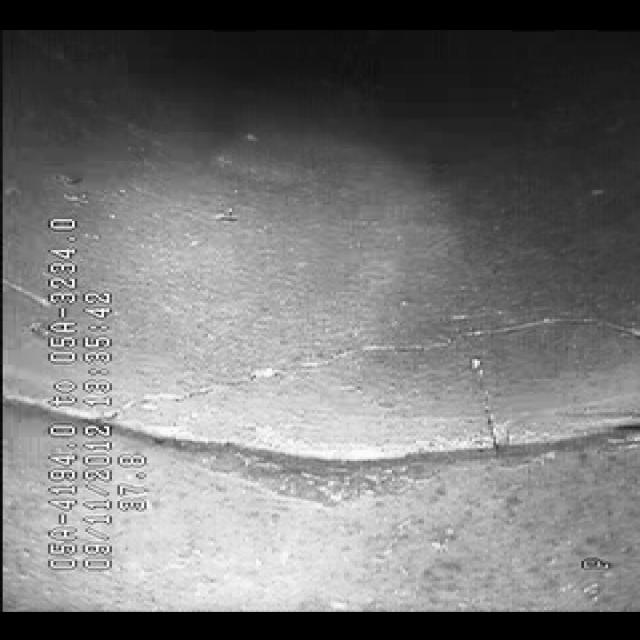Crack: (165, 313, 552, 412)
